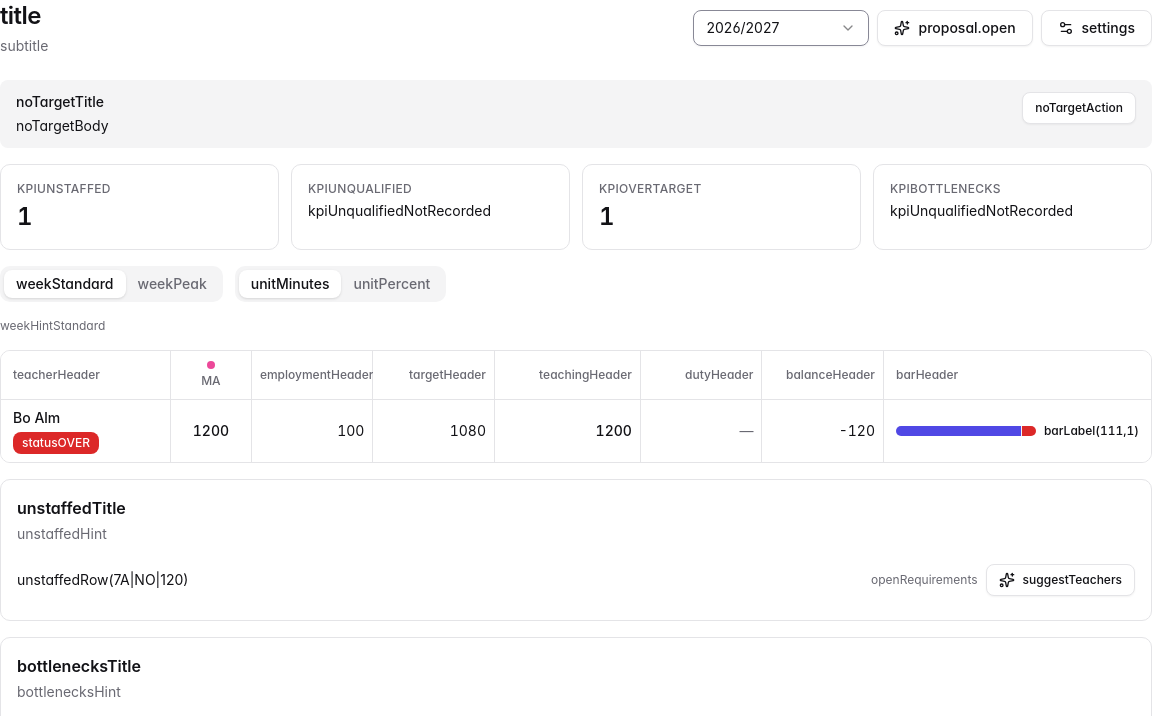
StaffingPage › staffs an unstaffed row from the panel and shows WARN's sentence in the panel, naming the row
The image size is (1152, 716).
What coordinates should you click on to do the following:
click the button "suggestTeachers"
I would click on:
 (1060, 580)
Its box is [986,564,1135,596].
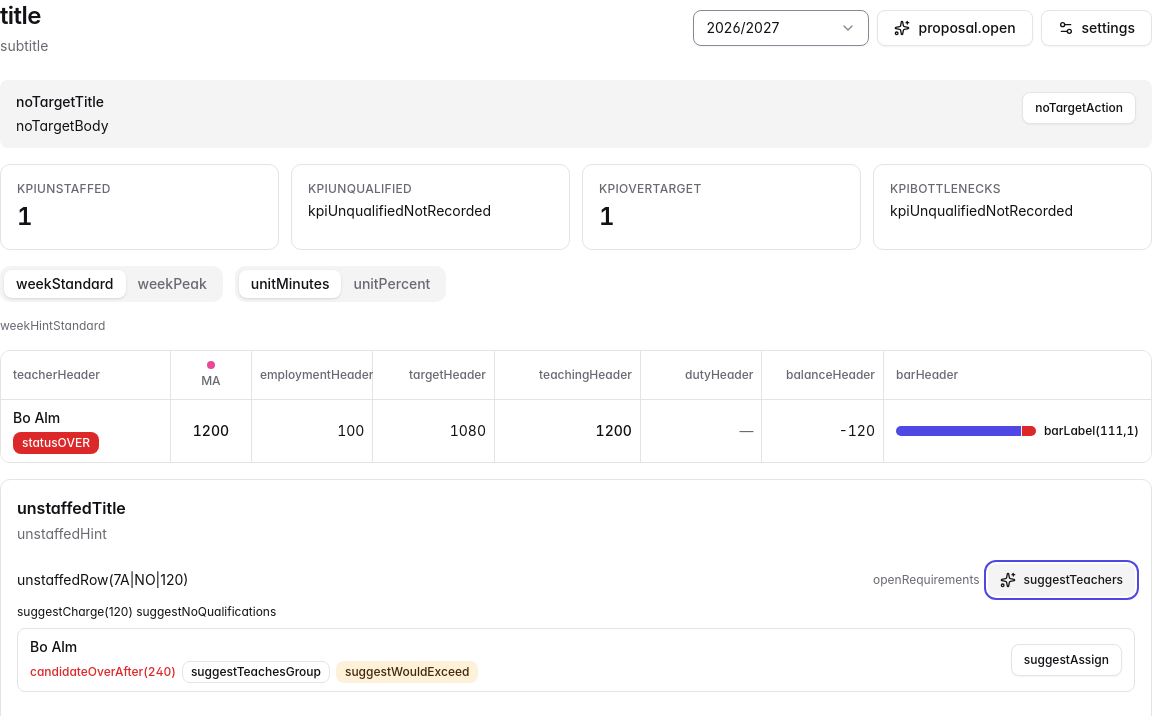
What coordinates should you click on to do the following:
click the button with aria-label "suggestAssignNamed(Bo Alm)"
I would click on:
 (1066, 660)
Its box is [1011,644,1122,676].
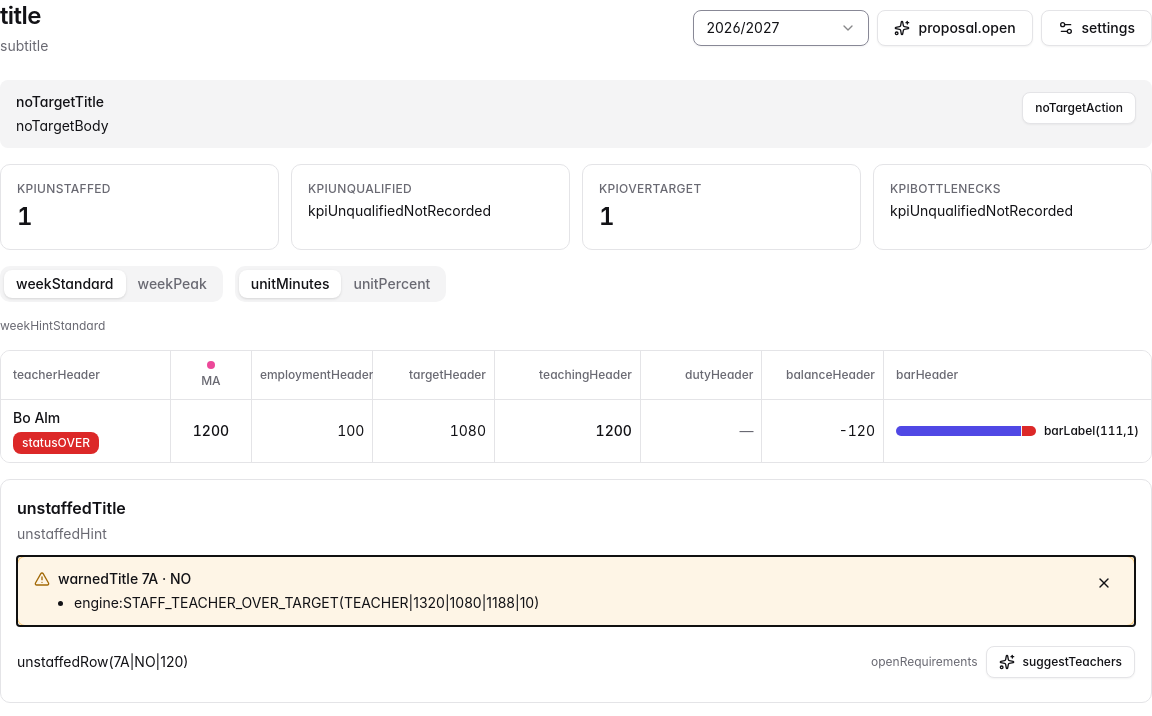
Expected: the text "engine:STAFF_TEACHER_OVER_TARGET(TEACHER|1320|1080|1188|10)" shows "warnedTitle 7A · NO", [17,556,1135,626]
